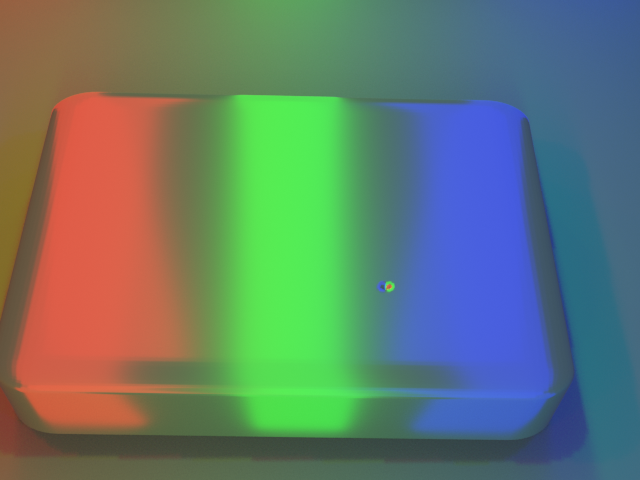dent: (373, 273, 411, 306)
